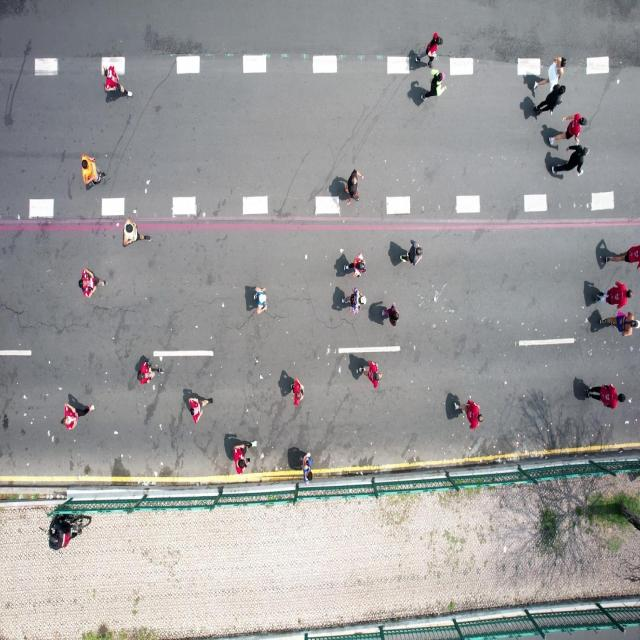Cycle: (47, 512, 94, 540)
